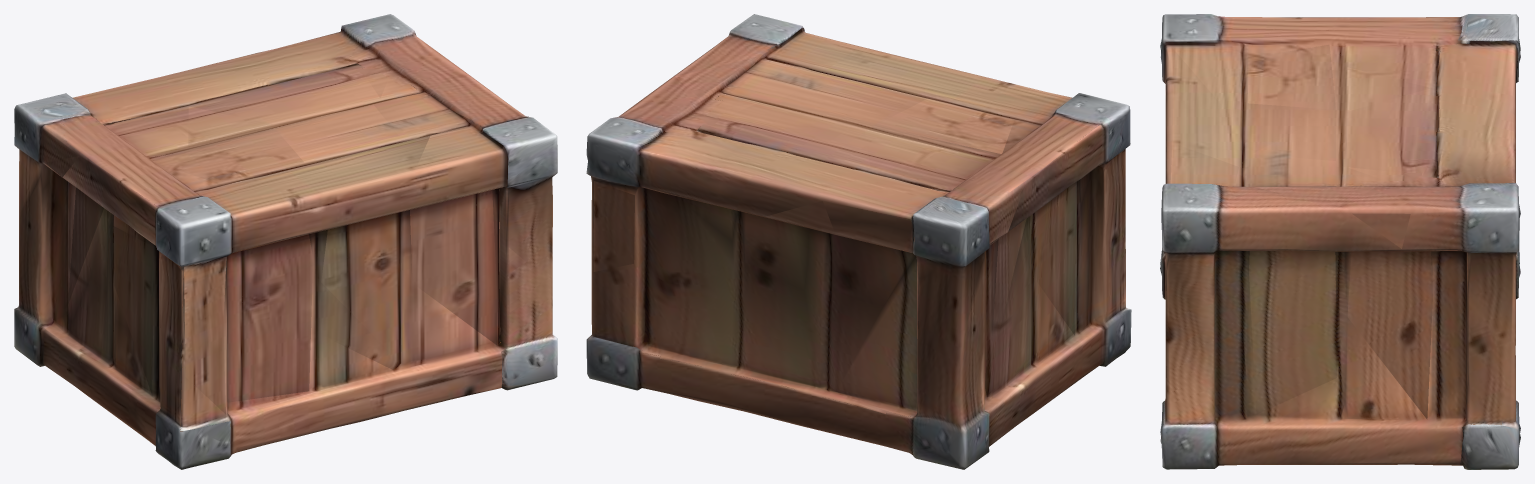
Rendered from prop_peti_kayu.glb.
3 renders of one model, left to right at view 1: azimuth 30°, elevation 25°; view 2: azimuth 150°, elevation 25°; view 3: azimuth 270°, elevation 25°, orthographic. The views are drawn at different scales.
Parts seen in each view (by area): view 1: prop_peti_kayu; view 2: prop_peti_kayu; view 3: prop_peti_kayu.
Part boxes in pixels (x1=…): prop_peti_kayu: x1=14, y1=14, x2=557, y2=469; prop_peti_kayu: x1=586, y1=14, x2=1131, y2=469; prop_peti_kayu: x1=1160, y1=14, x2=1520, y2=469.
Size of the model in its own units: 0.7998 by 0.4997 by 0.6128.
1 material, 1 textured.
